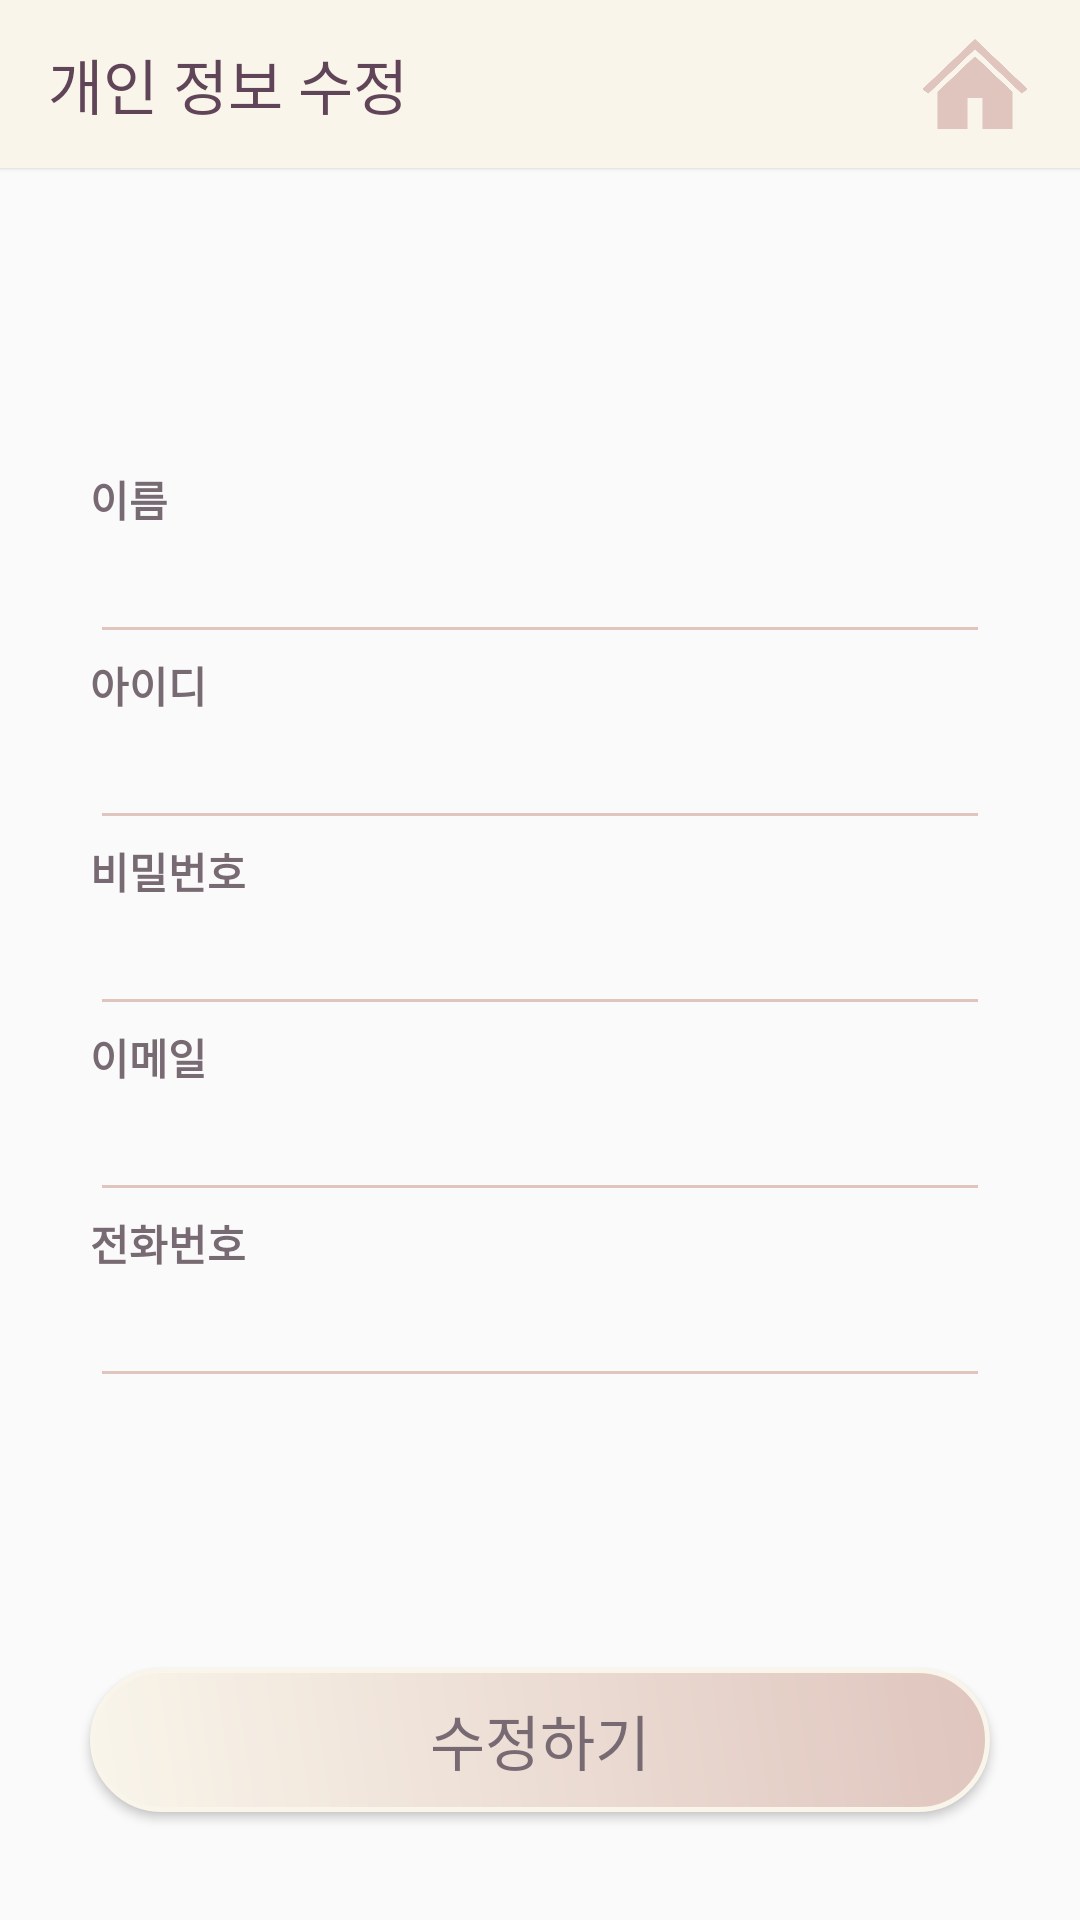

Icon click points for this 1080×1920 phone screenshot, format (x=x, y=y):
home: (x=975, y=84)
